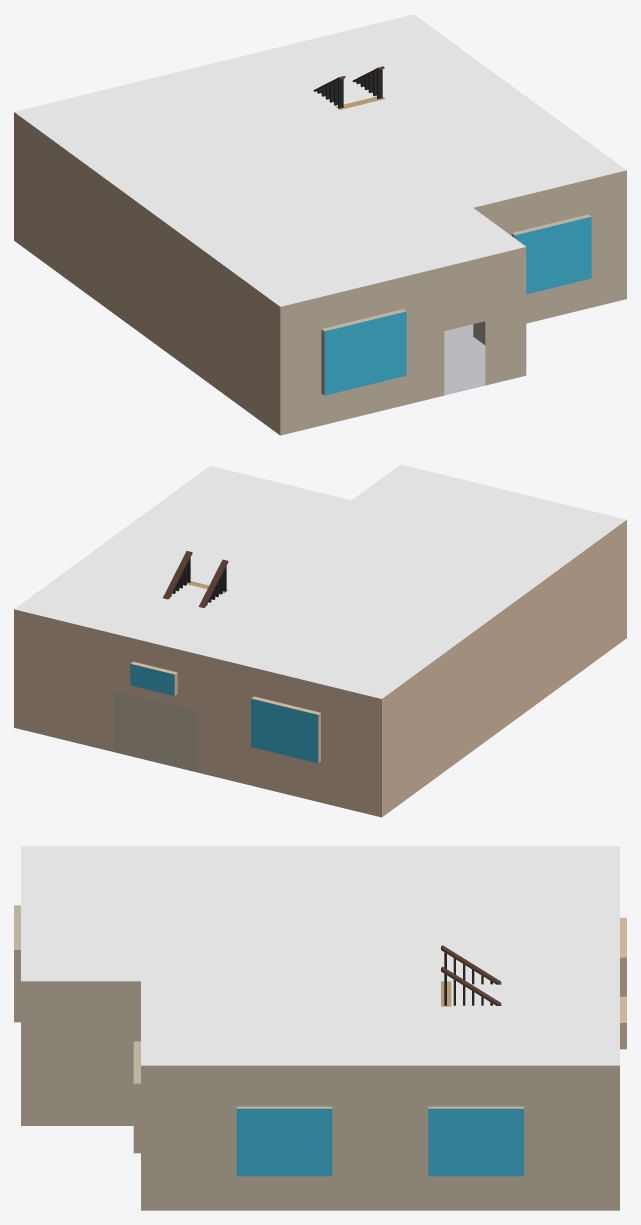
The model's file is insideHouse7.glb.
3 views of the same model, one above another, from view 1: azimuth 30°, elevation 25°; view 2: azimuth 150°, elevation 25°; view 3: azimuth 270°, elevation 25° (orthographic). The views are drawn at different scales.
Parts seen in each view (by area): view 1: ceiling, wall_east_south, wall_north_west, windows, floor, stairs; view 2: ceiling, wall_north_west, stairs, windows; view 3: ceiling, wall_east_south, windows, stairs, wall_north_west.
Part boxes in pixels (box(x1,y1,x2,y2)): ceiling: box(14, 14, 626, 306); wall_east_south: box(280, 170, 626, 435); wall_north_west: box(14, 112, 280, 435); windows: box(324, 216, 591, 395); floor: box(444, 324, 485, 395); stairs: box(313, 66, 385, 109); ceiling: box(14, 464, 626, 698); wall_north_west: box(14, 520, 626, 817); stairs: box(113, 551, 228, 772); windows: box(130, 664, 318, 763); ceiling: box(21, 846, 619, 1065); wall_east_south: box(14, 905, 619, 1210); windows: box(236, 1108, 523, 1176); stairs: box(441, 945, 501, 1006); wall_north_west: box(620, 917, 626, 1049).
Bounding box in the file's own units: 13.12 × 5.01 × 15.36.
